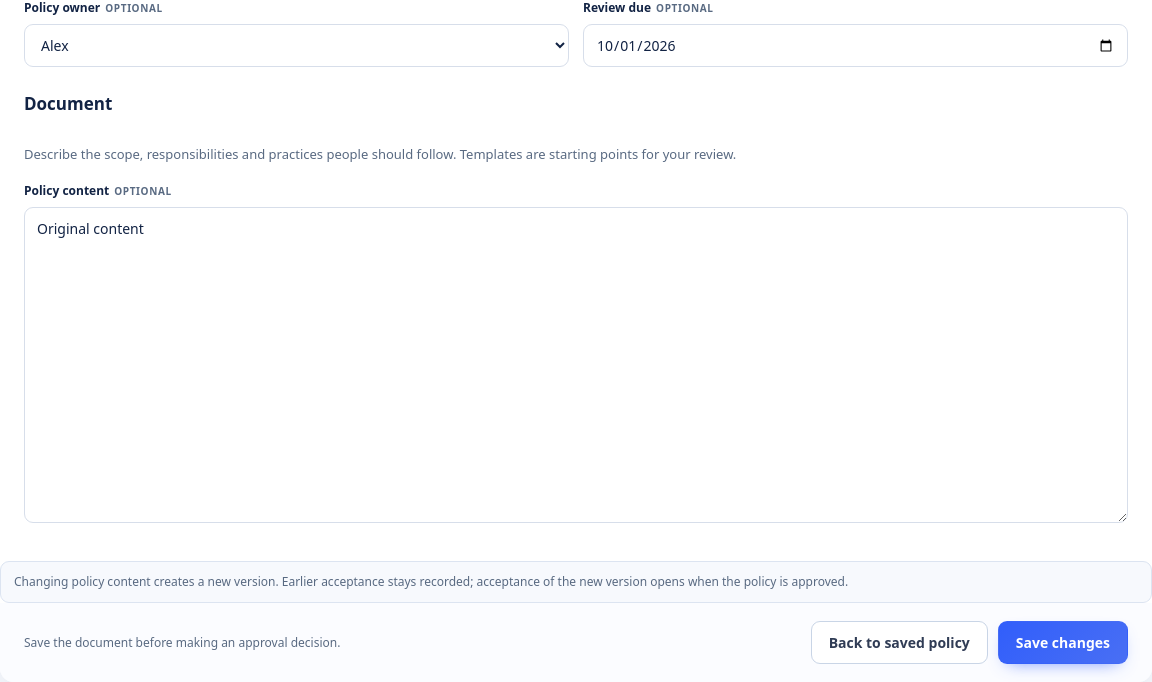
Test case: keeps the committed revision after a notification warning so the next edit can save
(page scrolled)
Click the button "Save changes".
click(1063, 642)  # box [998,621,1128,664]
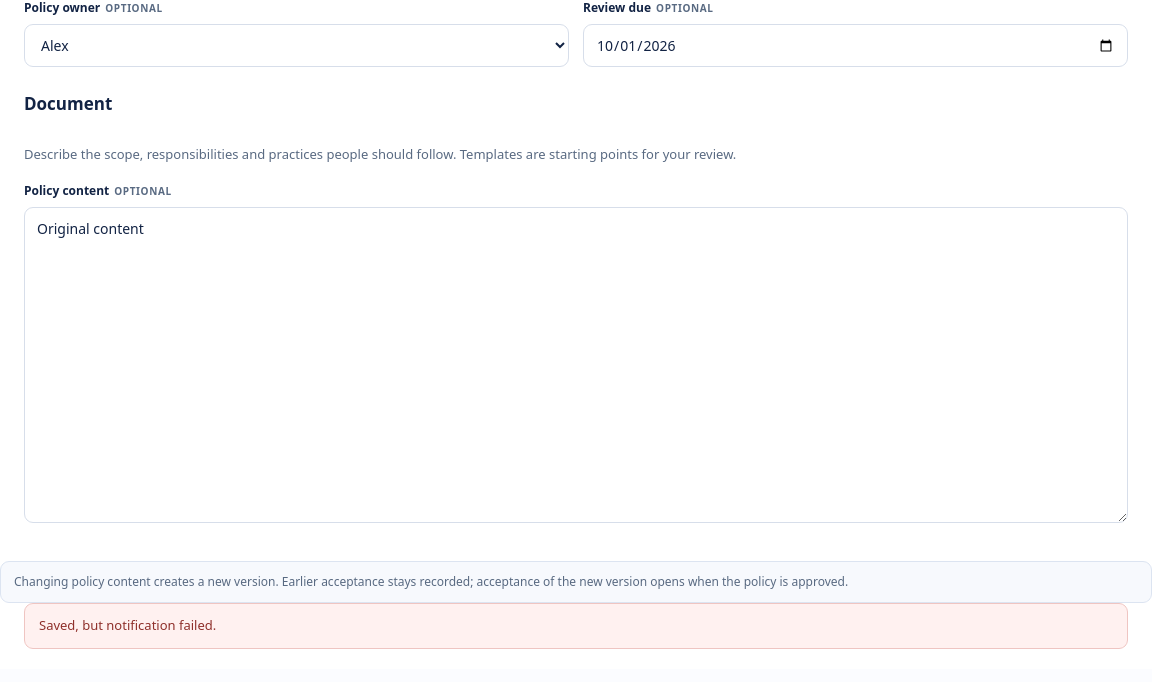
Result: the message "Saved, but notification failed." is shown at [24,603,1128,648]
Type " Another amendment" into the text box labelled "Policy content".
click(576, 365); type(" Another amendment")  # box [24,207,1128,523]
(page scrolled)
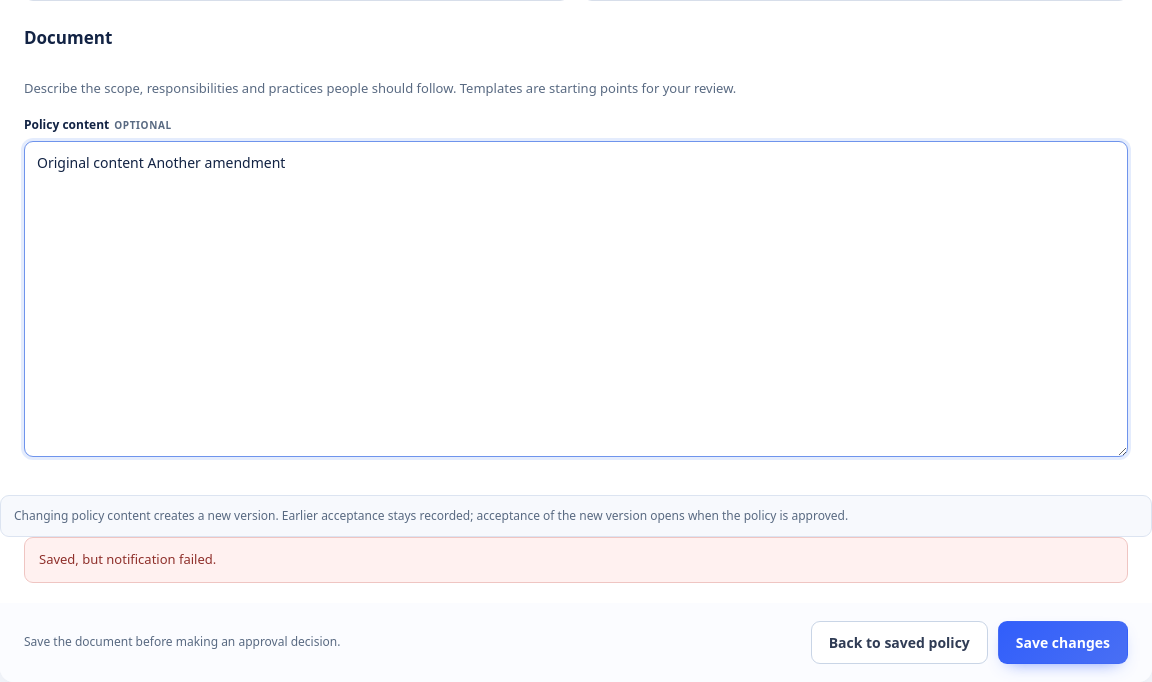
Click the button "Save changes".
click(1063, 642)  # box [998,620,1128,664]
(page scrolled)
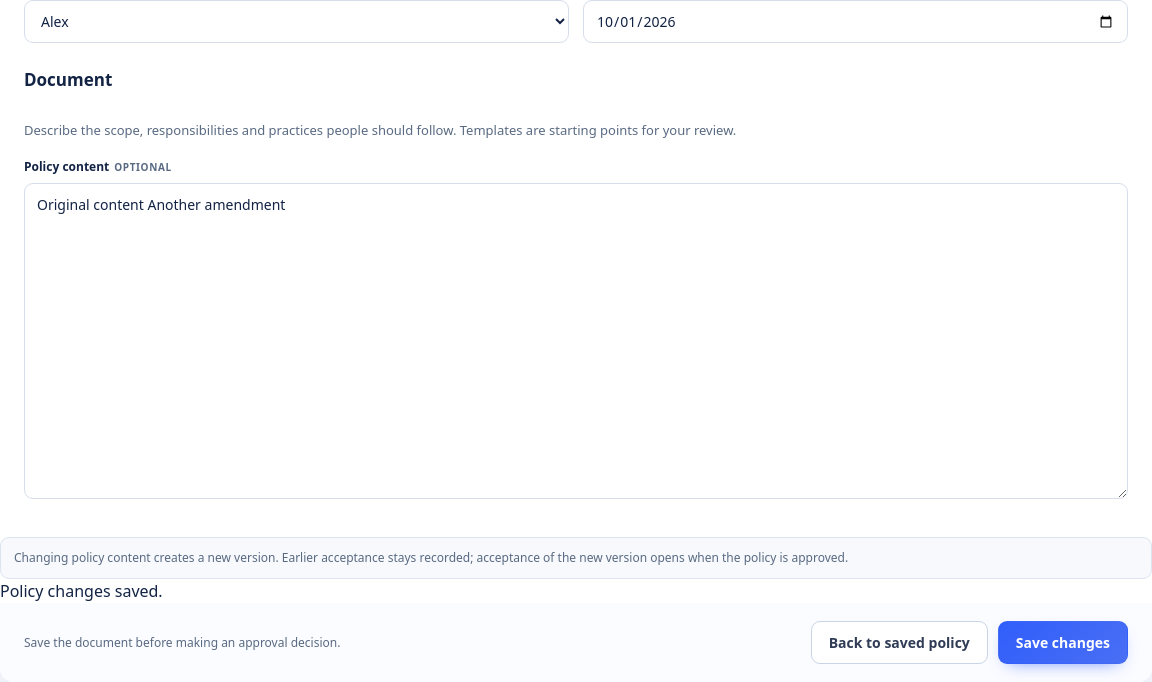
Result: the message "Policy changes saved." is shown at [0,580,163,602]
